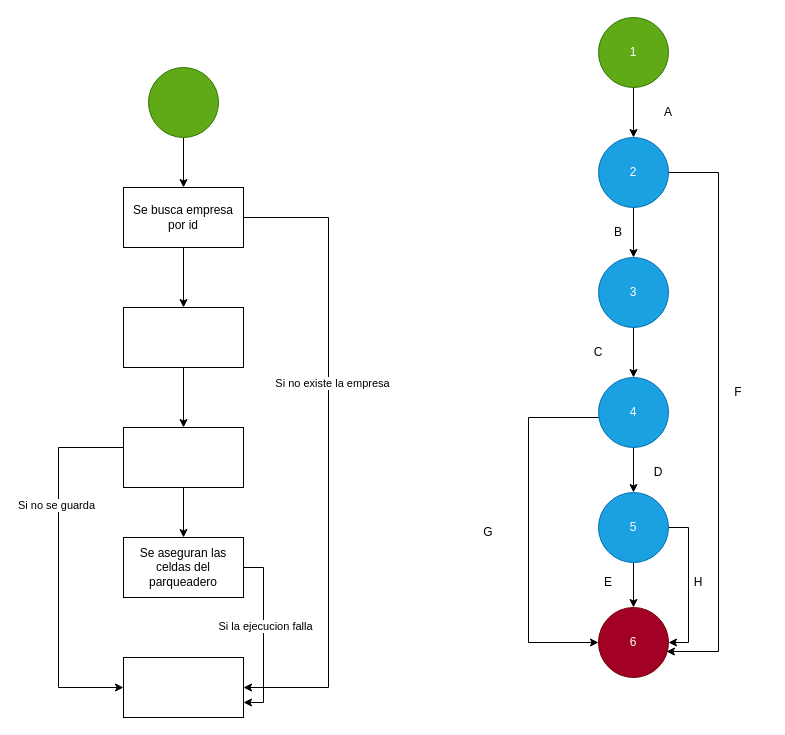
Some shapes in this 785 by 735 pixel diagram are drawn without their labels. The centre of each missing label's shape, as x and y in pixels:
"Se crea la instancia del objeto" goes at [183,337].
"Se guarda el parqueadeero en DB" goes at [183,457].
"Se recibe el DTO" goes at [183,102].
"Se retorna el objeto creado" goes at [183,687].
